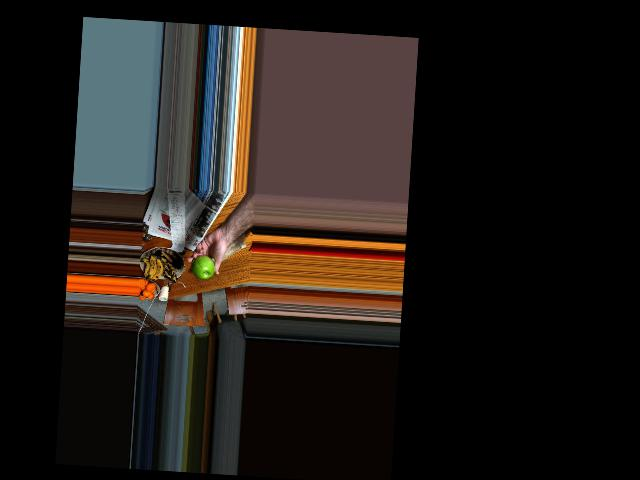apple: (190, 251, 217, 282)
